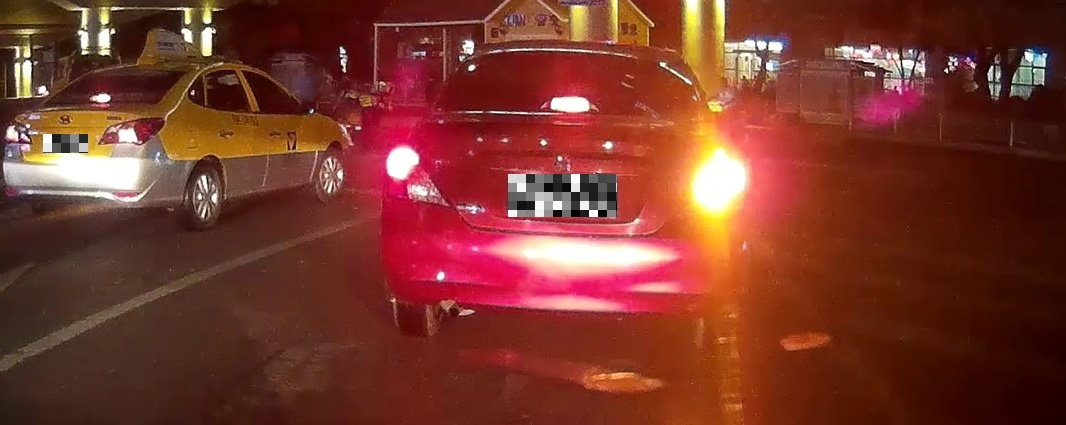L_light: (384, 145, 447, 205), (4, 120, 32, 145)
R_light: (675, 154, 738, 215), (98, 117, 166, 146)
T_light: (538, 97, 598, 112), (88, 94, 112, 103)
night-brake: (2, 60, 197, 231)
night-right: (380, 39, 742, 350)
plate_1: (43, 134, 88, 153)
plate_2: (508, 174, 617, 217)
